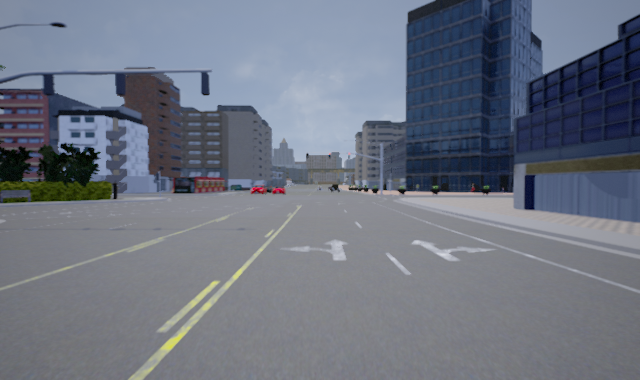vehicle: (269, 186, 287, 195), (249, 185, 266, 194)
